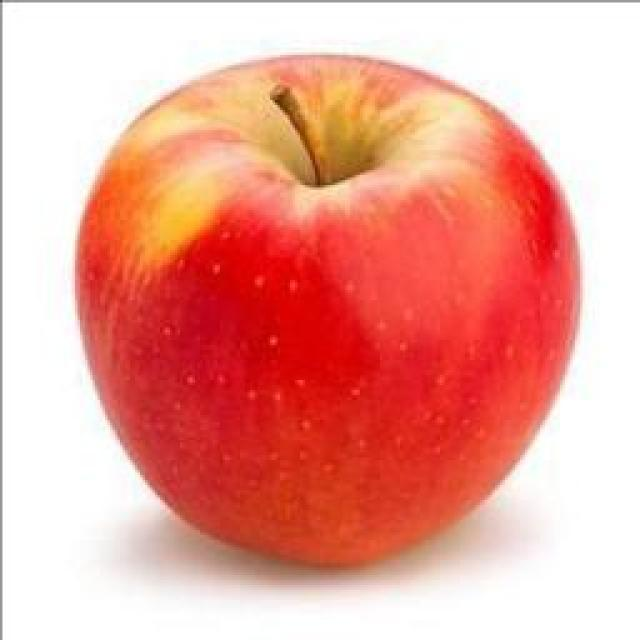Apple: (76, 56, 579, 564)
